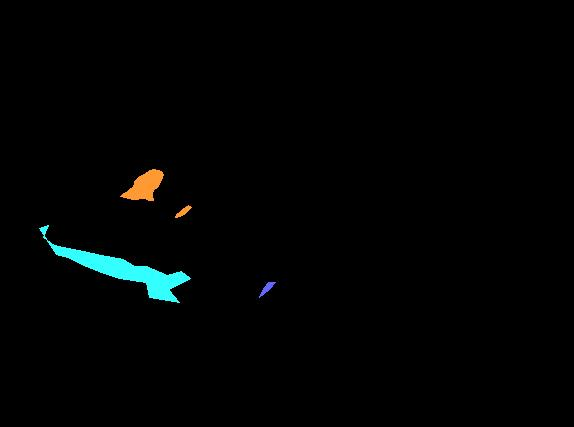Flaking: (39, 225, 190, 302)
Paint chip: (120, 169, 163, 200), (175, 205, 191, 217)
Scratch: (259, 282, 275, 297)
